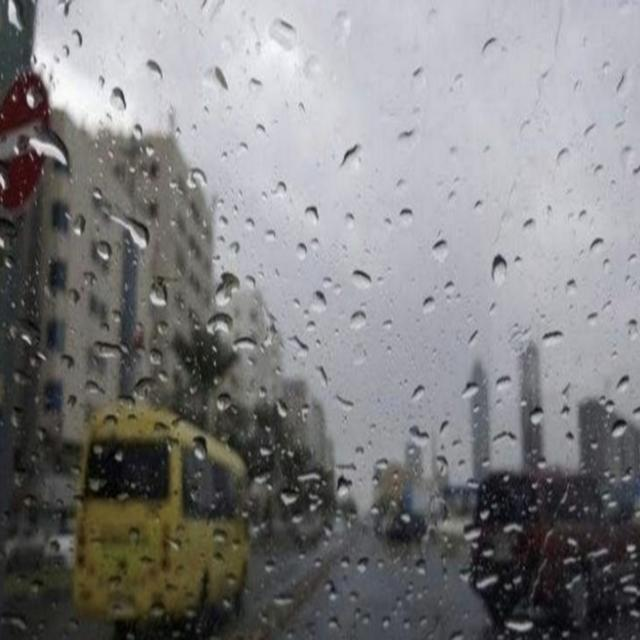car: (475, 468, 633, 630)
truck: (81, 413, 249, 628)
